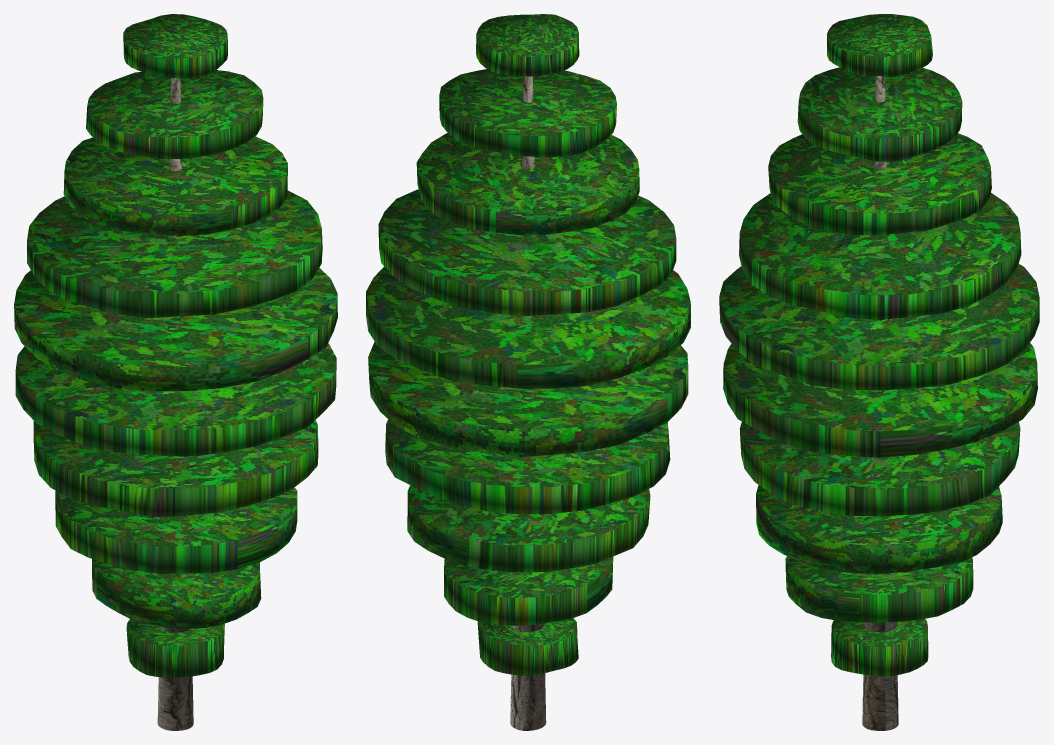
Rendered from tree_pineDefaultB.glb.
The picture shows the model from 3 angles, left to right: view 1: azimuth 30°, elevation 25°; view 2: azimuth 150°, elevation 25°; view 3: azimuth 270°, elevation 25°; orthographic projection.
Visible parts, largest first — view 1: Canopy_6, Canopy_5, Canopy_4, Canopy_7, Canopy_3, Canopy_2, Canopy_8, Canopy_1, Canopy_9, Canopy_0, Trunk; view 2: Canopy_6, Canopy_5, Canopy_4, Canopy_7, Canopy_3, Canopy_2, Canopy_8, Canopy_1, Canopy_9, Canopy_0, Trunk; view 3: Canopy_6, Canopy_5, Canopy_4, Canopy_7, Canopy_3, Canopy_2, Canopy_8, Canopy_1, Canopy_9, Canopy_0, Trunk.
Boxes of the visible parts, x1,y1,x2,y2 form: Canopy_6: (27,190,322,317); Canopy_5: (14,268,337,391); Canopy_4: (15,343,336,456); Canopy_7: (63,136,287,235); Canopy_3: (33,420,318,517); Canopy_2: (55,487,297,573); Canopy_8: (86,70,263,158); Canopy_1: (92,559,261,628); Canopy_9: (123,14,227,78); Canopy_0: (126,619,224,677); Trunk: (157,77,193,730); Canopy_6: (378,189,676,316); Canopy_5: (366,266,690,388); Canopy_4: (368,342,688,456); Canopy_7: (416,133,639,235); Canopy_3: (385,419,670,514); Canopy_2: (407,485,650,572); Canopy_8: (439,69,616,157); Canopy_1: (444,556,613,625); Canopy_9: (476,14,579,76); Canopy_0: (477,618,578,675); Trunk: (510,76,546,730); Canopy_6: (739,193,1021,319); Canopy_5: (719,263,1039,390); Canopy_4: (723,343,1037,457); Canopy_7: (768,133,991,235); Canopy_3: (739,422,1020,516); Canopy_2: (756,485,1002,573); Canopy_8: (797,67,962,161); Canopy_1: (785,556,973,622); Canopy_9: (827,14,932,77); Canopy_0: (831,619,928,676); Trunk: (862,76,898,730).
Bounding box in the file's own units: 3.57 × 8.33 × 3.51.
Materials: 2 (2 with a texture image).
